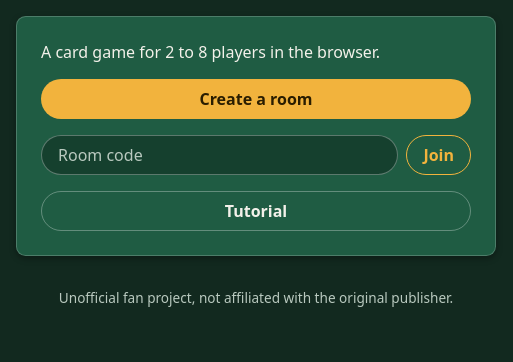
HomeView › explains an invalid room code and stays on the page
This screenshot has width=513, height=362.
Type "nope" into the field with placeholder "Room code". click: {"x": 220, "y": 155}
box: [41, 135, 398, 175]
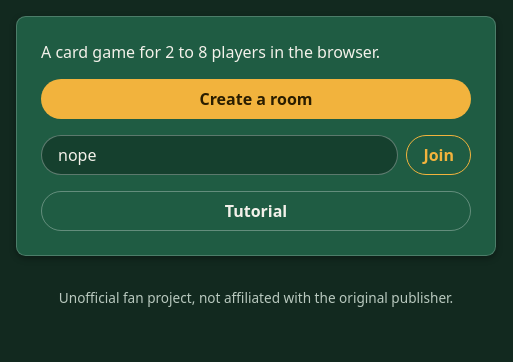
Submit the form, box [41, 135, 471, 175]
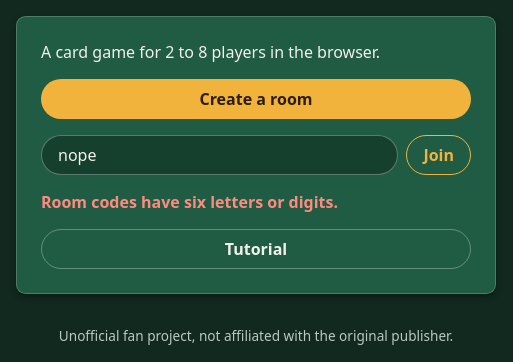
Result: the text "Room codes have six letters or digits." is shown at [41, 191, 338, 213]
